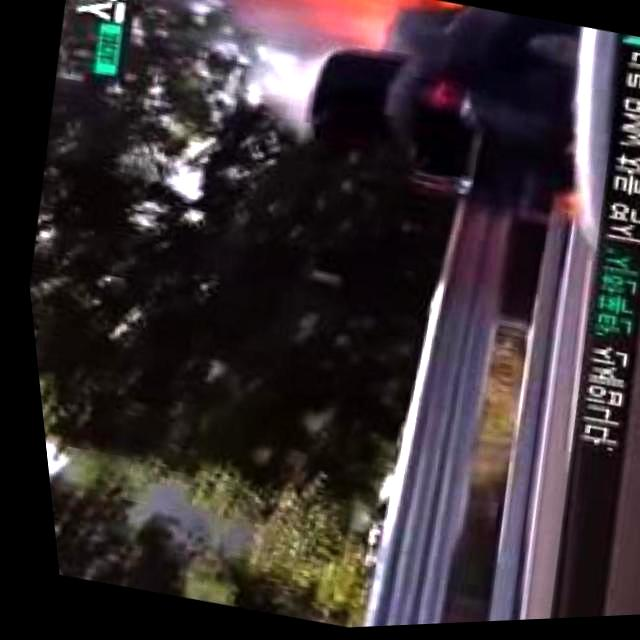fire: (268, 0, 477, 74)
